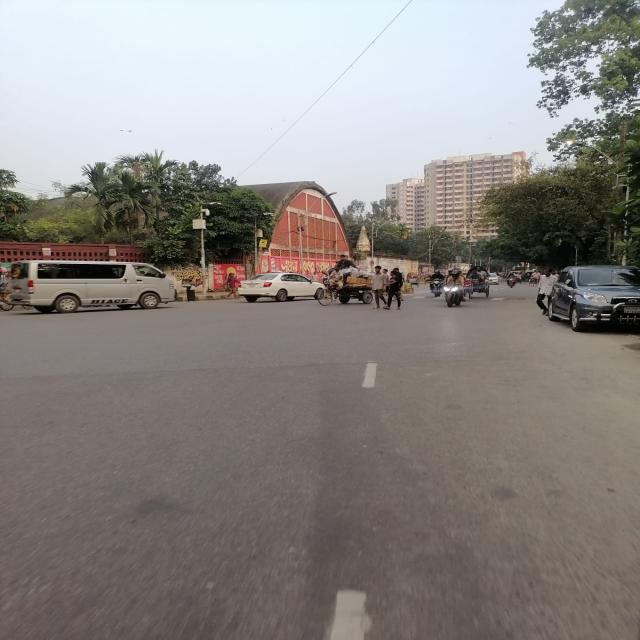person: (383, 270, 403, 310), (371, 265, 387, 309)
